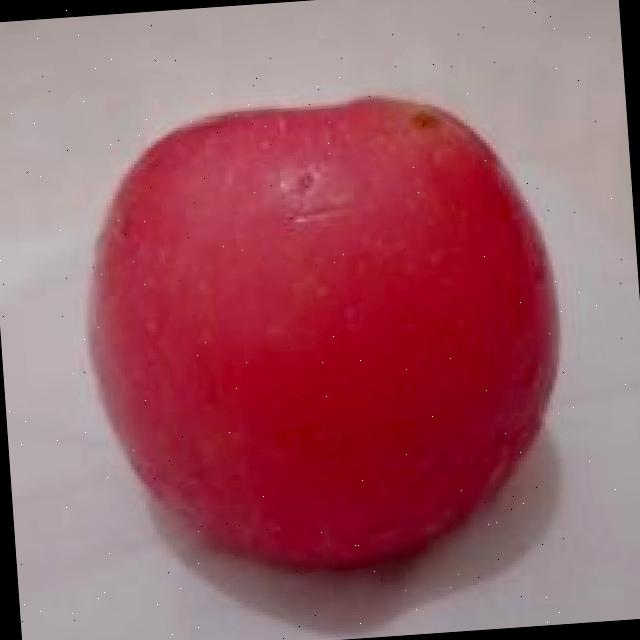apple: (24, 39, 640, 640)
